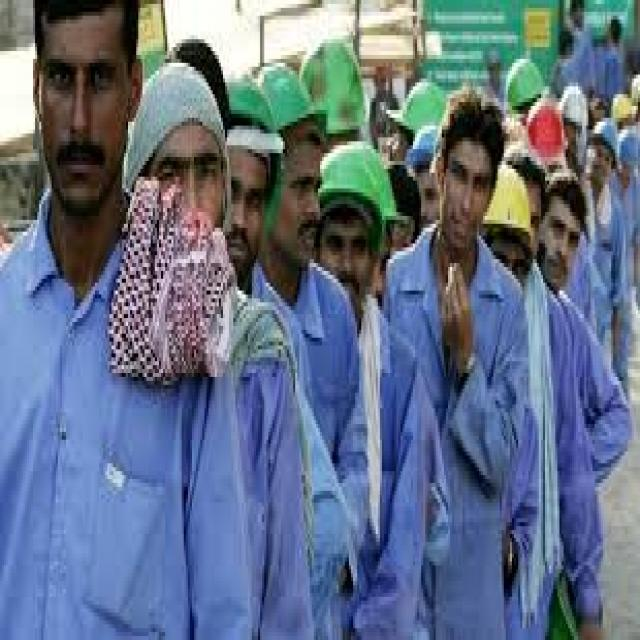Safety-Helmet: (128, 55, 231, 181), (295, 27, 370, 142), (314, 137, 400, 224), (524, 98, 566, 165)
